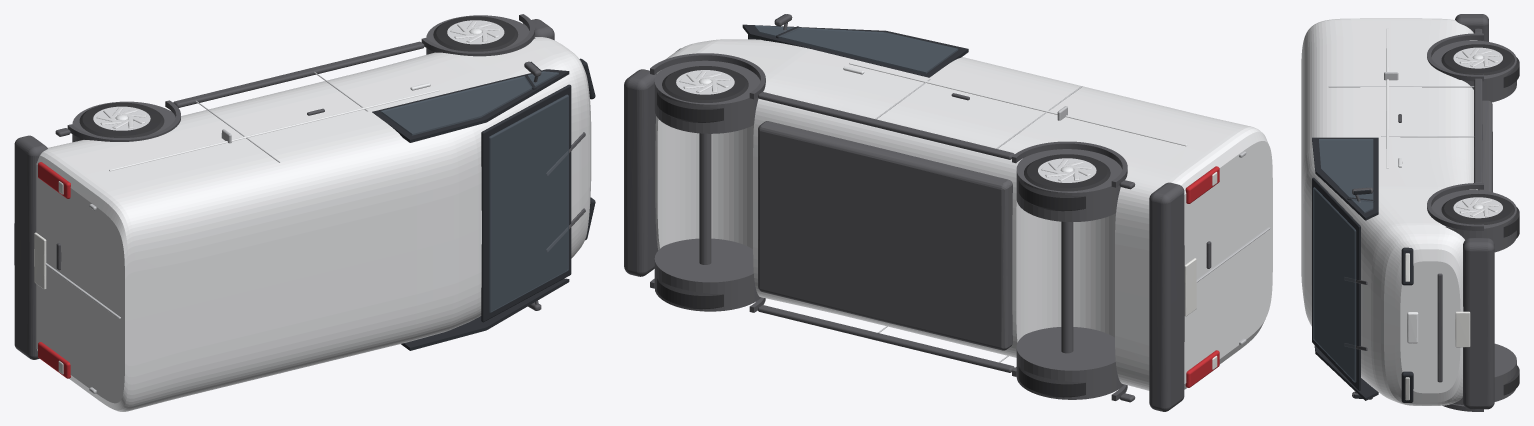
File: maxence.glb
The picture shows the model from 3 angles, left to right: view 1: azimuth 30°, elevation 25°; view 2: azimuth 150°, elevation 25°; view 3: azimuth 270°, elevation 25°; orthographic projection. The views are drawn at different scales.
Parts seen in each view (by area): view 1: paint_0, gmask_64, glass_65, gmask_71, trim_82, glass_72, trim_106, gmask_68, tire_44, tire_18, trim_2, paint_107 (+8 smaller); view 2: paint_0, under_63, trim_82, trim_76, gmask_71, under_61, under_58, glass_72, under_62, under_59, tire_44, tire_18 (+14 smaller); view 3: paint_0, gmask_64, glass_65, trim_76, gmask_71, glass_72, under_59, under_62, tire_18, tire_44, under_58, under_63 (+15 smaller).
Part boxes in pixels (x1,y1,x2,y2): paint_0: (36, 37, 591, 411); gmask_64: (481, 84, 571, 322); glass_65: (489, 94, 568, 312); gmask_71: (372, 69, 569, 142); trim_82: (14, 135, 47, 359); glass_72: (381, 71, 558, 135); trim_106: (173, 41, 424, 107); gmask_68: (401, 278, 569, 350); tire_44: (79, 102, 164, 137); tire_18: (433, 16, 518, 51); trim_2: (421, 14, 534, 56); paint_107: (109, 89, 439, 171); paint_0: (655, 39, 1272, 390); under_63: (758, 121, 1012, 350); trim_82: (1149, 182, 1184, 411); trim_76: (624, 69, 658, 276); gmask_71: (742, 24, 968, 77); under_61: (1016, 327, 1124, 399); under_58: (654, 238, 761, 311); glass_72: (754, 25, 958, 73); under_62: (1016, 149, 1122, 222); under_59: (654, 60, 760, 133); tire_44: (1018, 154, 1110, 211); tire_18: (657, 66, 748, 122); paint_0: (1301, 18, 1477, 405); gmask_64: (1312, 177, 1360, 390); glass_65: (1313, 187, 1356, 382); trim_76: (1463, 238, 1494, 409); gmask_71: (1312, 137, 1378, 220); glass_72: (1319, 139, 1373, 213); under_59: (1431, 190, 1516, 251); under_62: (1431, 40, 1516, 102); tire_18: (1441, 194, 1519, 237); tire_44: (1441, 44, 1519, 87); under_58: (1453, 343, 1516, 404); under_63: (1478, 100, 1492, 192).
Bounding box in the file's own units: 4.7 × 2.04 × 1.92.
